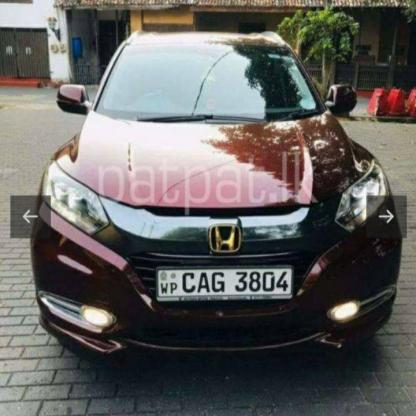car front: (33, 30, 403, 365)
number plate: (158, 268, 290, 297)
